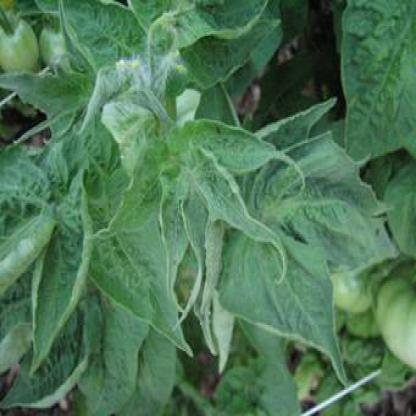tomato leaf mosaic virus: (217, 206, 354, 380), (84, 167, 196, 353), (189, 141, 287, 276), (176, 115, 303, 184)
